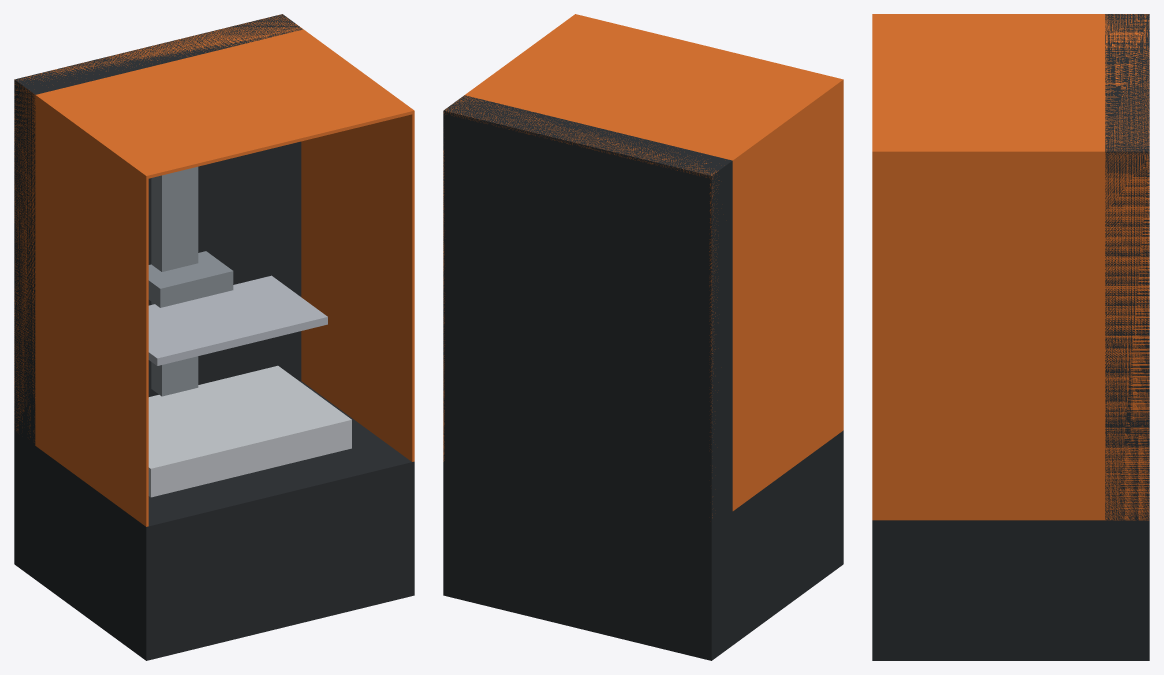
The model's file is phenom.glb.
3 renders of one model, left to right at view 1: azimuth 30°, elevation 25°; view 2: azimuth 150°, elevation 25°; view 3: azimuth 270°, elevation 25°, orthographic. The views are drawn at different scales.
Visible parts, largest first — view 1: part6, part0, part2, part5, part4; view 2: part0, part6; view 3: part6, part0.
Boxes of the visible parts, box(x1,y1,x2,y2) form: part6: box(14, 14, 414, 526); part0: box(14, 14, 414, 660); part2: box(148, 365, 351, 497); part5: box(148, 275, 327, 365); part4: box(148, 166, 233, 396); part0: box(443, 95, 843, 660); part6: box(443, 14, 843, 517); part6: box(872, 14, 1149, 520); part0: box(872, 14, 1149, 660).
Bounding box in the file's own units: 440 × 760 × 375.
